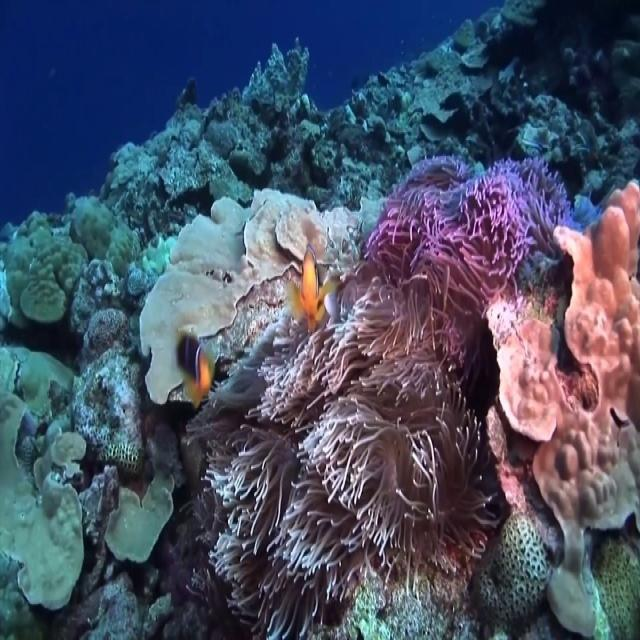fish: (282, 246, 342, 333), (174, 336, 217, 401)
reefs: (184, 158, 573, 639), (486, 183, 639, 635), (137, 190, 366, 405)
